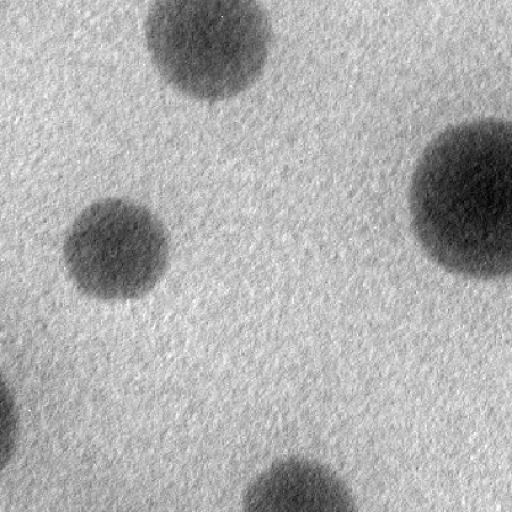Nanoparticles: (405, 115, 512, 291), (145, 0, 278, 100), (62, 194, 178, 308), (240, 452, 362, 512), (0, 375, 22, 477)
